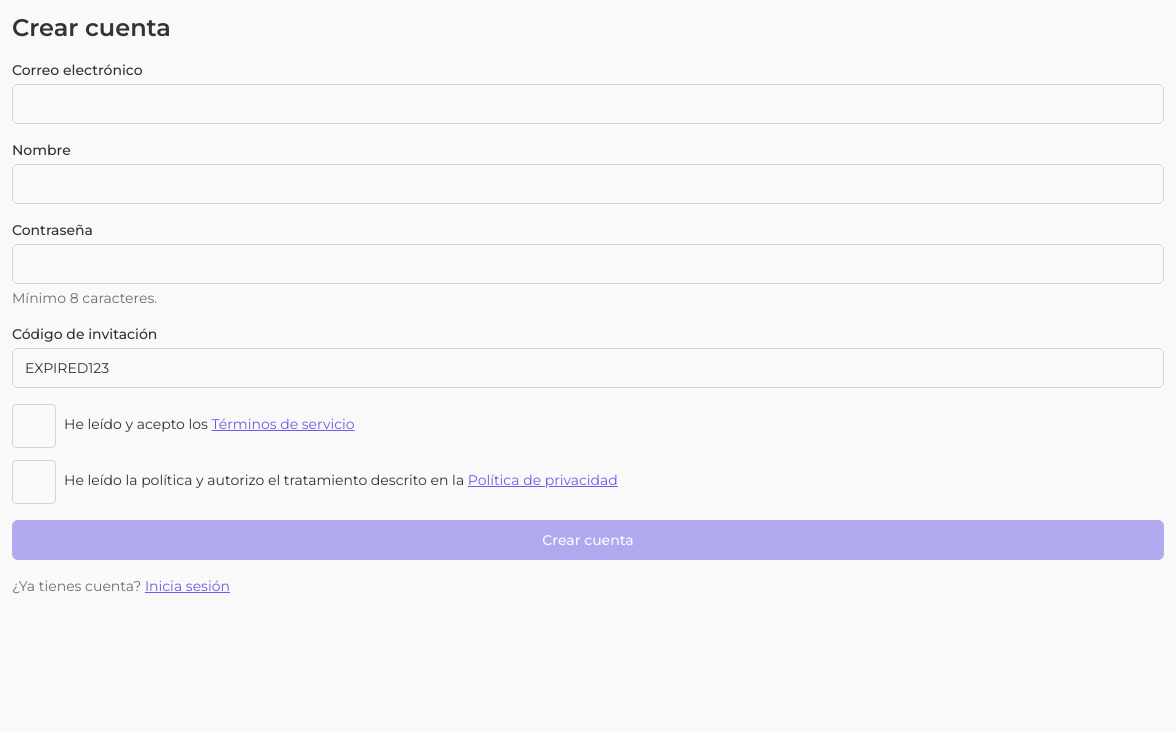
Scenario: RegisterForm › renders an invalid-invite error against the invite code field
In the field labelled "Correo electrónico": (588, 104) [12, 84, 1164, 124], type "ana@example.com"
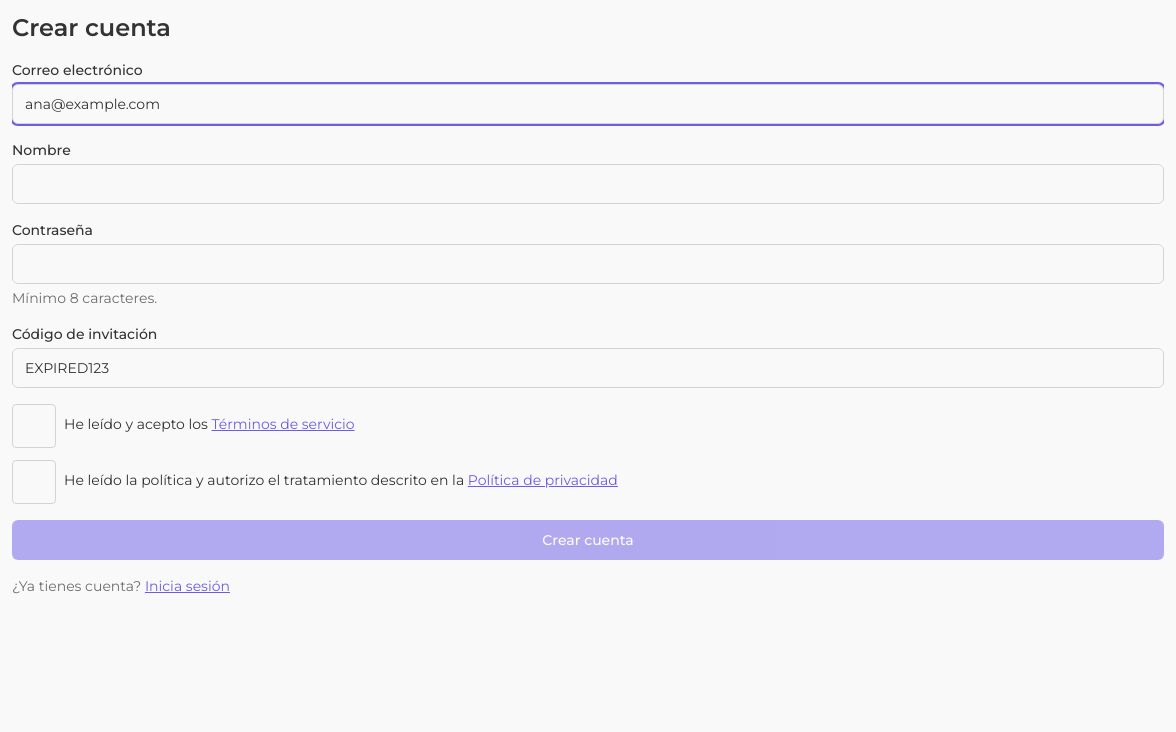
In the field labelled "Nombre": (588, 184) [12, 164, 1164, 204], type "Ana"
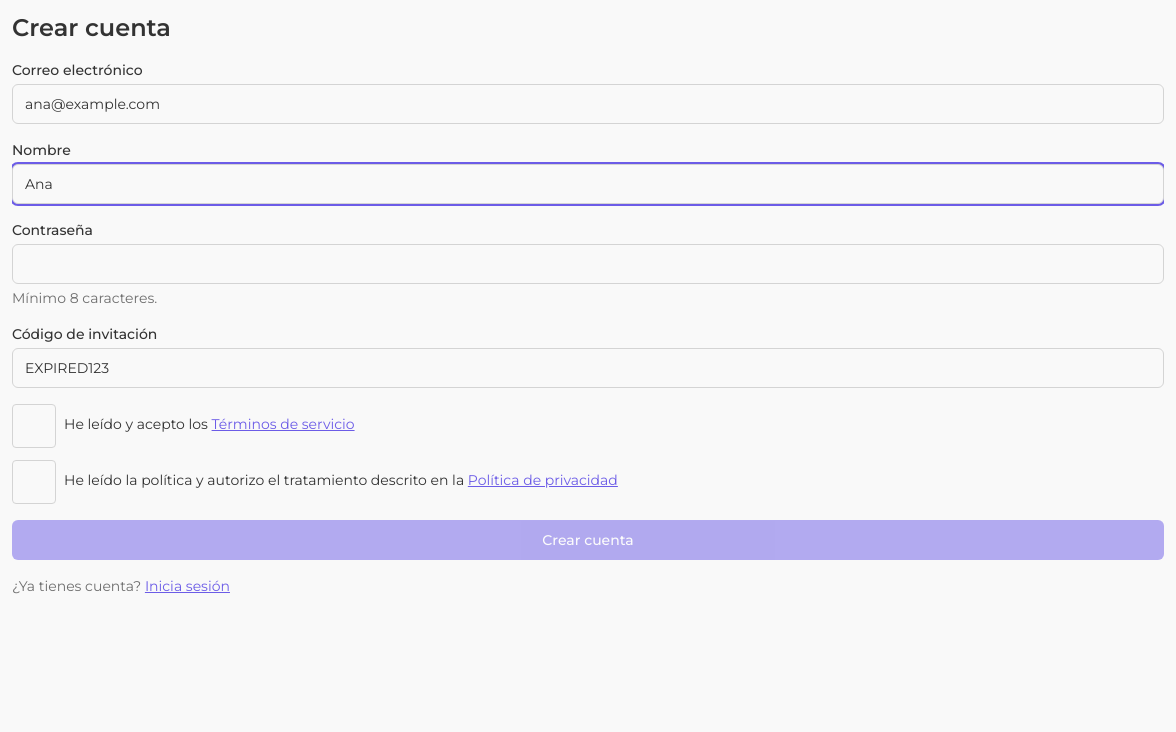
In the password field labelled "Contraseña": (588, 264) [12, 244, 1164, 284], type "correct horse battery staple"
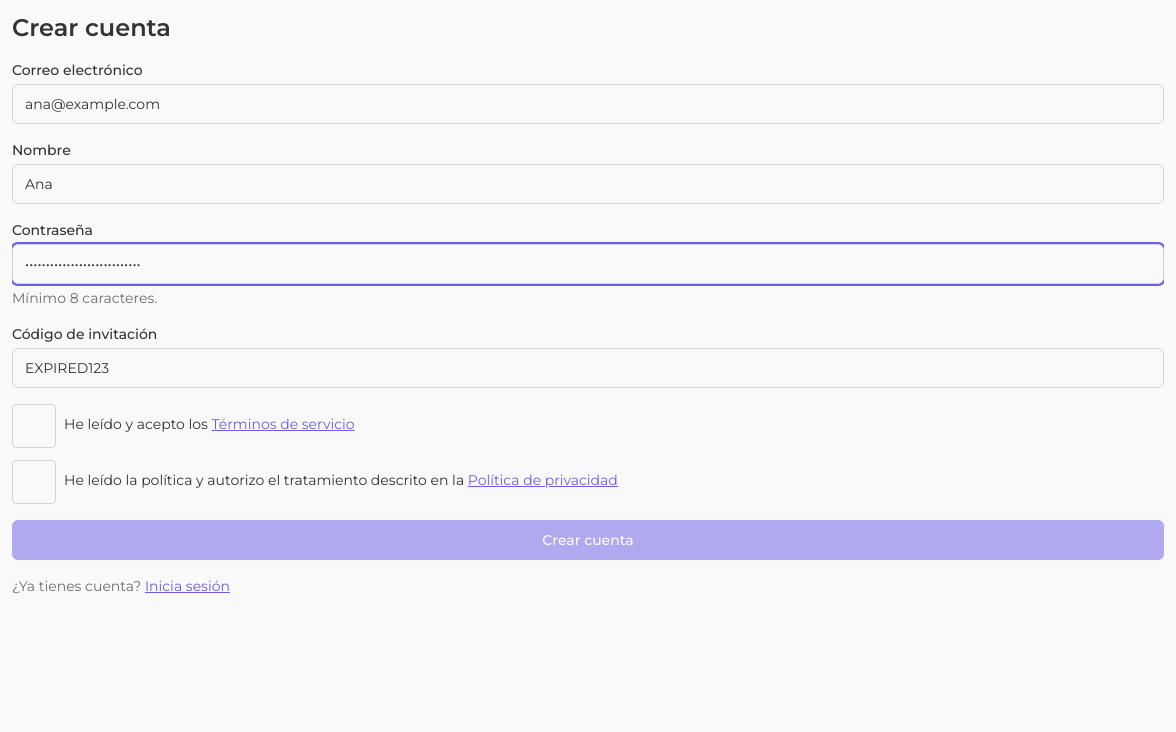
Click the checkbox named "Términos de servicio" next to "He leído y acepto los": (34, 426) [12, 404, 56, 448]
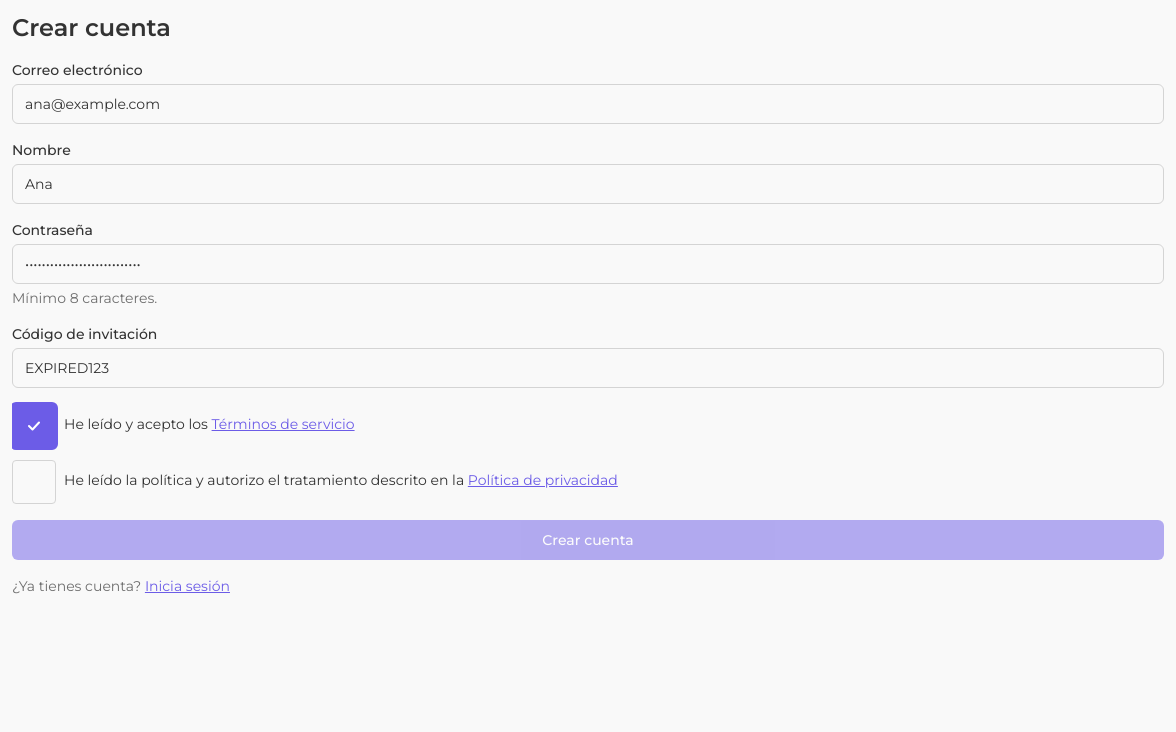
Click the checkbox named "Política de privacidad" in the row of "Política de privacidad": (34, 482) [12, 460, 56, 504]
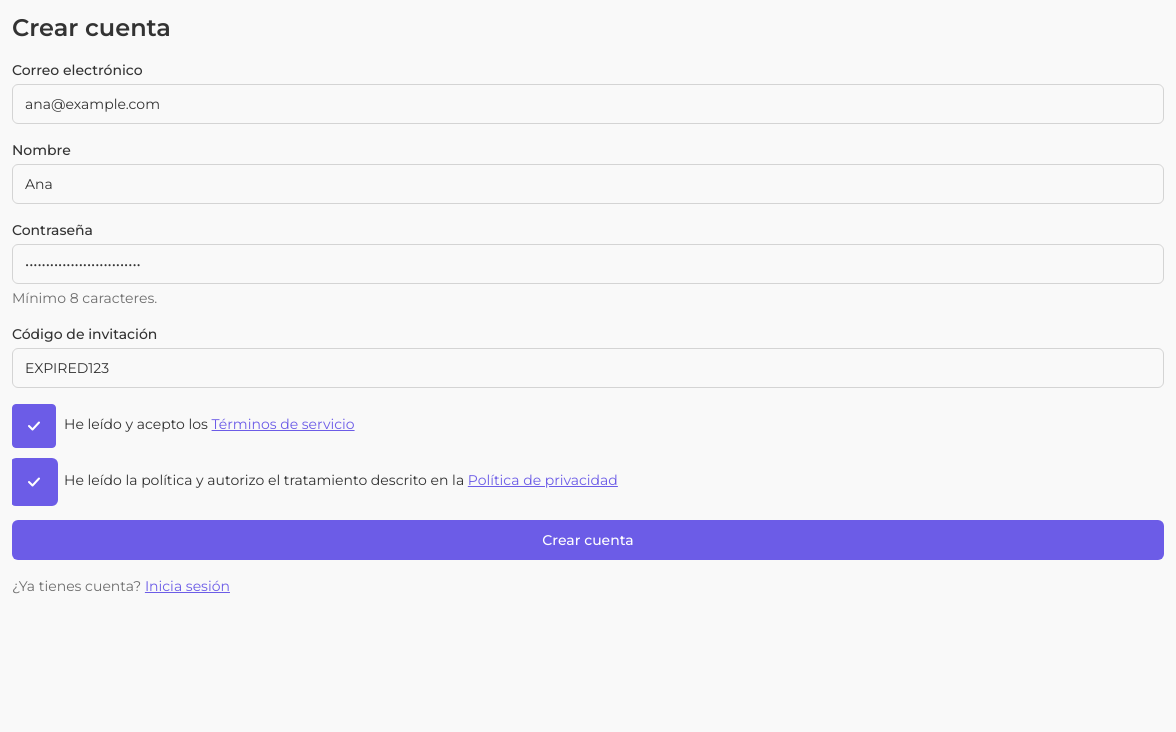
Click the button "Crear cuenta": (588, 540) [12, 520, 1164, 560]
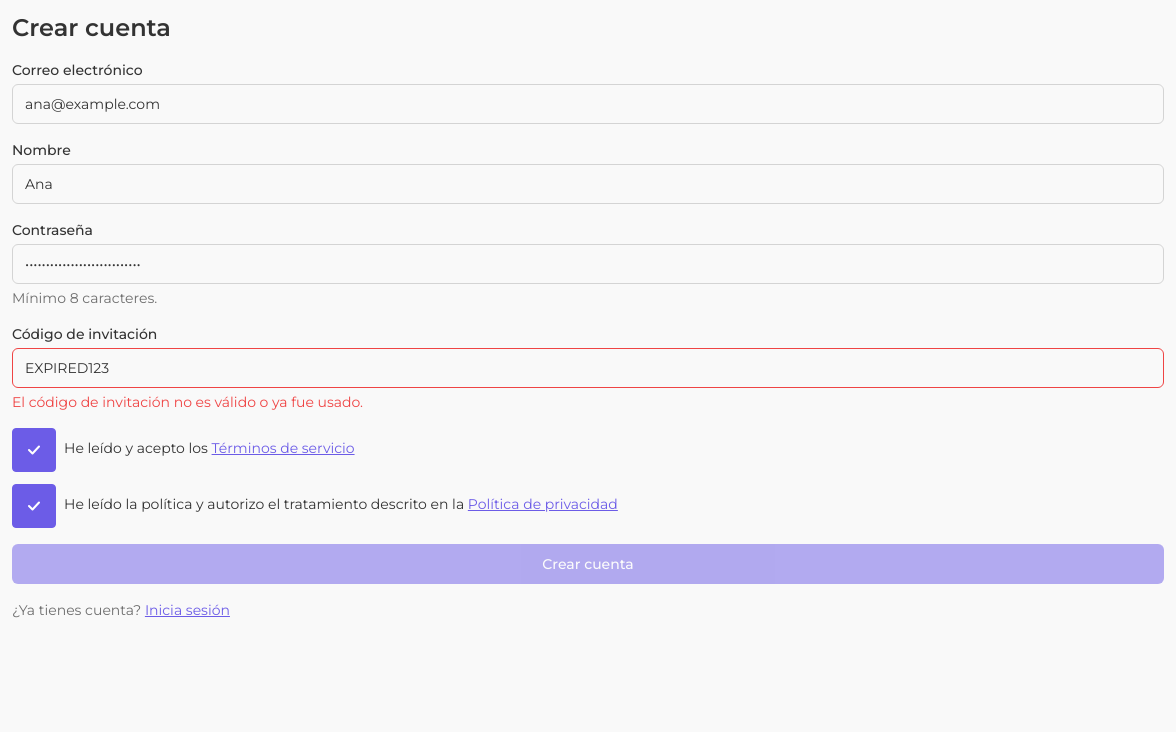
expect the text "El código de invitación no es válido o ya fue usado." is shown: met, box [12, 393, 363, 411]
